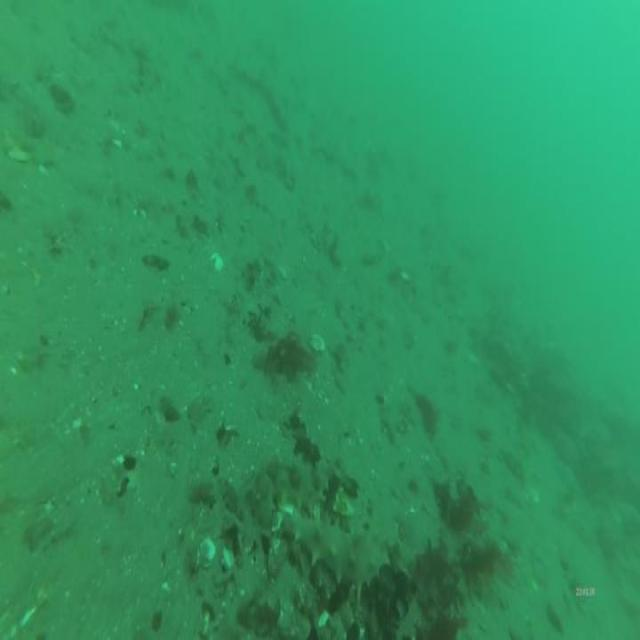echinus: (412, 387, 440, 443)
holothurian: (276, 496, 400, 601)
